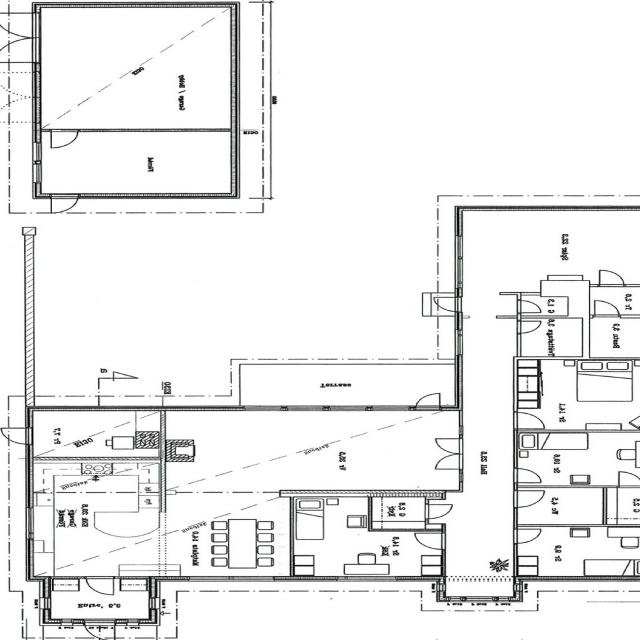door: (0, 12, 42, 38), (0, 38, 42, 62), (85, 619, 116, 640), (52, 193, 78, 214), (0, 428, 34, 444), (514, 412, 544, 429), (514, 491, 545, 507), (415, 533, 446, 549), (88, 576, 114, 595), (52, 129, 78, 147), (434, 438, 463, 454), (416, 392, 440, 411), (434, 454, 463, 469), (432, 298, 462, 312), (514, 468, 541, 483), (514, 529, 541, 544), (426, 504, 453, 519), (600, 270, 624, 286), (595, 301, 619, 317), (619, 472, 640, 488), (518, 300, 541, 312), (518, 321, 540, 333)
